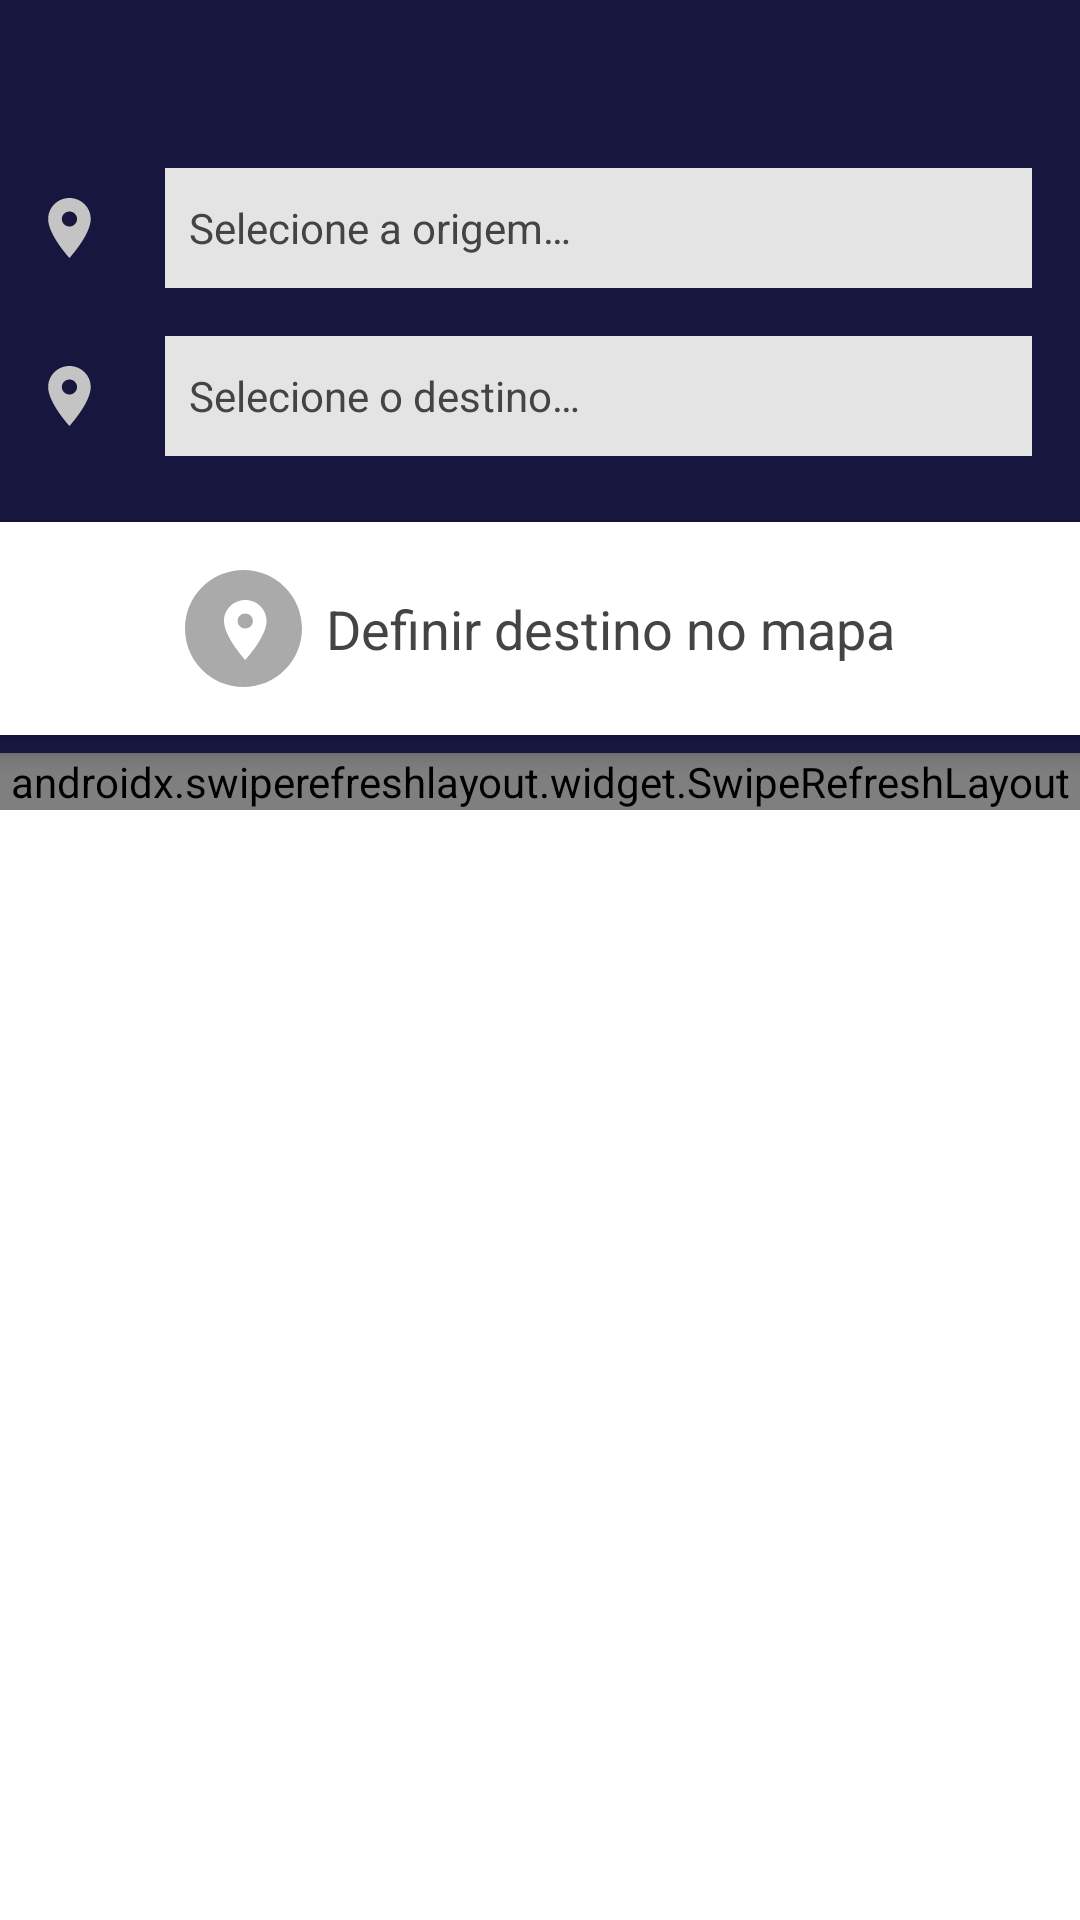

Where to tap for icons on this 1080x1920 app screen, as [x,y]:
localatual: [69,228], [69,396]
